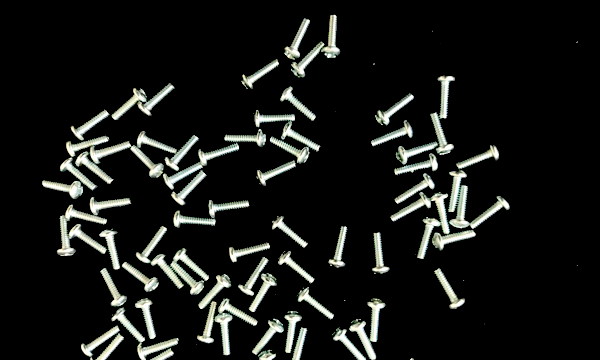shortscrew: (433, 267, 466, 311), (469, 195, 511, 229), (59, 157, 99, 191), (375, 93, 415, 127), (296, 287, 337, 320), (138, 82, 176, 117), (277, 250, 316, 284), (151, 251, 185, 290), (279, 87, 318, 121), (80, 325, 121, 357), (171, 170, 207, 206), (198, 273, 233, 310), (76, 151, 115, 184), (240, 60, 280, 92), (238, 255, 269, 296), (395, 174, 437, 204), (248, 272, 278, 314), (291, 42, 326, 78), (173, 247, 210, 281), (270, 215, 308, 248), (252, 318, 285, 356), (70, 109, 110, 140), (283, 17, 311, 61), (110, 307, 145, 342), (165, 135, 200, 170), (171, 261, 205, 297), (111, 87, 147, 121), (281, 122, 321, 152), (455, 143, 501, 169), (331, 326, 366, 360), (349, 318, 377, 360), (371, 120, 414, 147), (392, 193, 432, 222), (270, 136, 310, 165), (131, 145, 165, 179), (69, 224, 107, 254), (218, 298, 258, 326), (256, 160, 297, 187), (100, 268, 128, 307), (123, 263, 159, 293), (429, 112, 454, 155), (395, 140, 438, 165), (199, 142, 241, 167), (165, 163, 202, 191), (417, 217, 441, 260), (396, 153, 439, 176), (228, 241, 271, 264), (134, 298, 157, 340), (91, 142, 131, 166), (432, 230, 477, 251), (66, 137, 111, 158), (99, 229, 122, 270), (137, 131, 178, 154), (90, 334, 125, 360), (65, 205, 108, 226), (436, 74, 456, 119), (137, 339, 179, 360), (42, 179, 84, 200), (367, 298, 387, 342), (198, 302, 218, 345), (447, 169, 466, 214), (450, 186, 470, 228), (329, 226, 349, 268), (431, 191, 450, 235), (252, 109, 296, 128), (322, 14, 341, 58), (371, 233, 390, 274), (57, 216, 76, 257), (225, 129, 266, 148), (284, 310, 302, 353), (215, 313, 233, 356), (173, 210, 216, 228), (210, 199, 250, 218), (285, 327, 308, 360), (90, 197, 132, 215), (134, 350, 174, 360), (258, 349, 278, 360), (408, 358, 444, 360)
